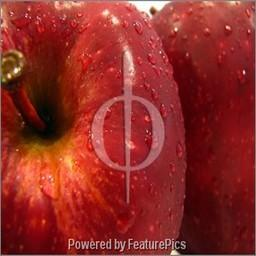apple: (1, 1, 185, 252)
